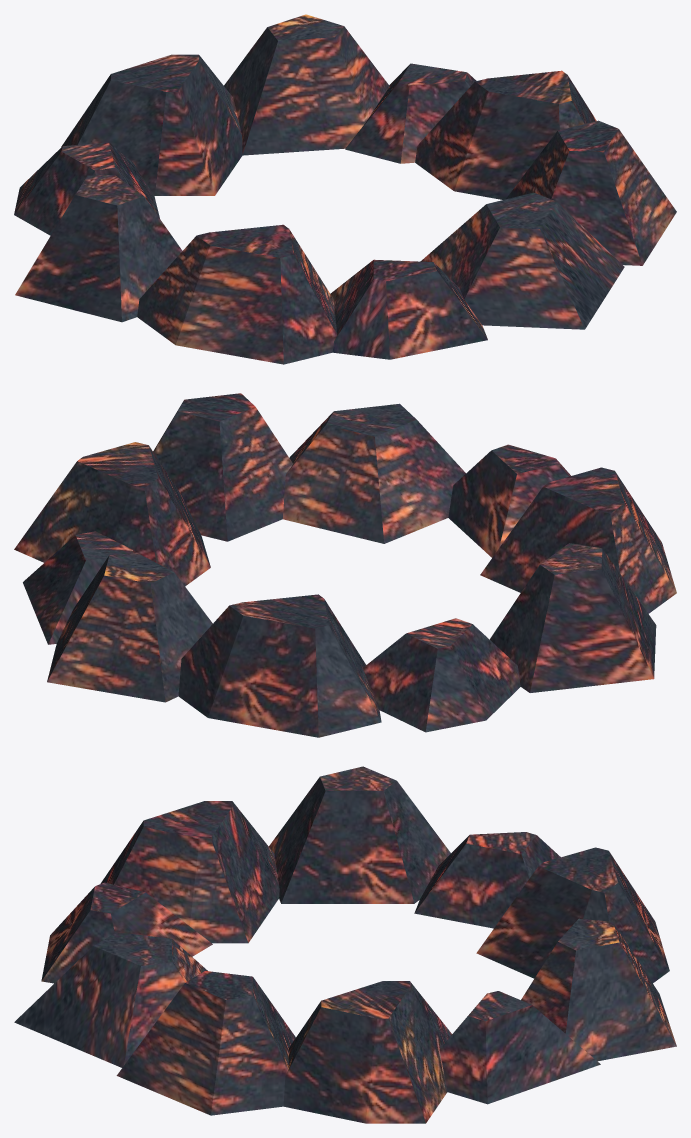
Rendered from base_fumarola.glb.
3 views of the same model, one above another, from view 1: azimuth 30°, elevation 25°; view 2: azimuth 150°, elevation 25°; view 3: azimuth 270°, elevation 25° (orthographic). The views are drawn at different scales.
Parts seen in each view (by area): view 1: campfire_stones; view 2: campfire_stones; view 3: campfire_stones.
Part boxes in pixels (x1,y1,x2,y2): campfire_stones: [14, 14, 676, 364]; campfire_stones: [14, 393, 676, 737]; campfire_stones: [14, 766, 676, 1123].
Bounding box in the file's own units: 0.5408 × 0.0778 × 0.5155.
1 material, 1 textured.
